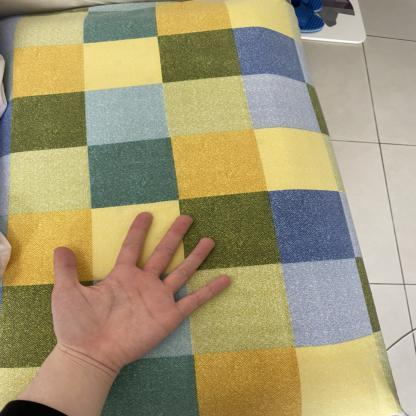bare_hand: (32, 204, 242, 376)
